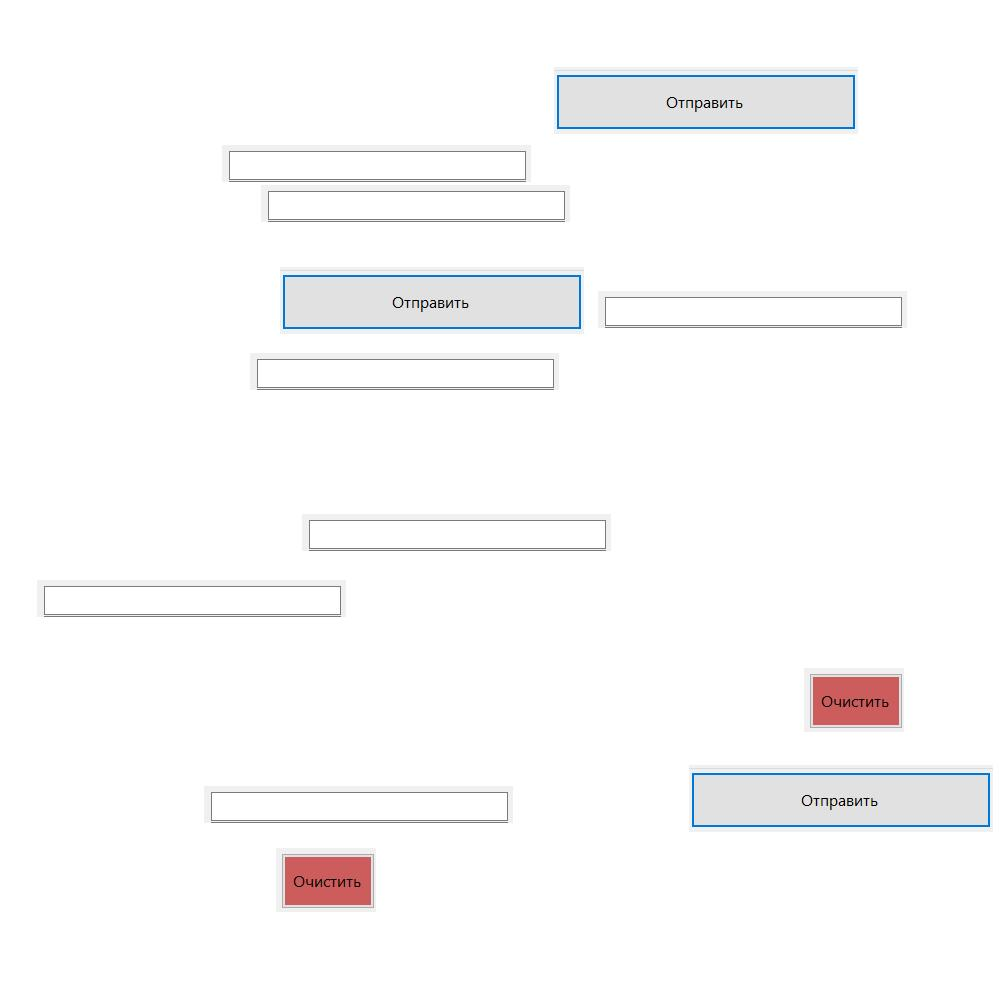Button: (689, 765, 993, 832), (280, 267, 584, 334), (554, 67, 858, 134), (276, 848, 376, 912), (804, 668, 904, 732)
EditText-: (204, 786, 513, 823), (250, 353, 559, 390), (261, 185, 570, 222), (37, 580, 346, 617), (222, 145, 531, 182), (302, 514, 611, 551), (598, 291, 907, 328)
